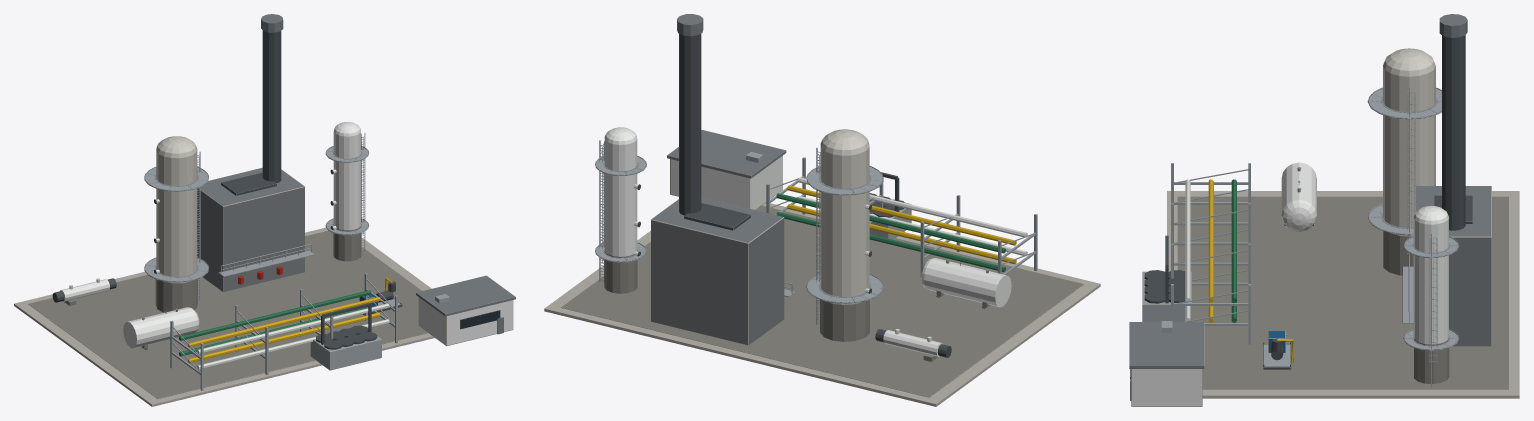
Rendered from ref_hydrotreater.glb.
The picture shows the model from 3 angles, left to right: view 1: azimuth 30°, elevation 25°; view 2: azimuth 150°, elevation 25°; view 3: azimuth 270°, elevation 25°; orthographic projection. The views are drawn at different scales.
Visible parts, largest first — view 1: ref_hydrotreater; view 2: ref_hydrotreater; view 3: ref_hydrotreater.
Boxes of the visible parts, box(x1,y1,x2,y2) form: ref_hydrotreater: box(14, 14, 515, 406); ref_hydrotreater: box(544, 14, 1100, 406); ref_hydrotreater: box(1129, 14, 1519, 406).
Size of the model in its own units: 46.73 by 31.9 by 35.41.
